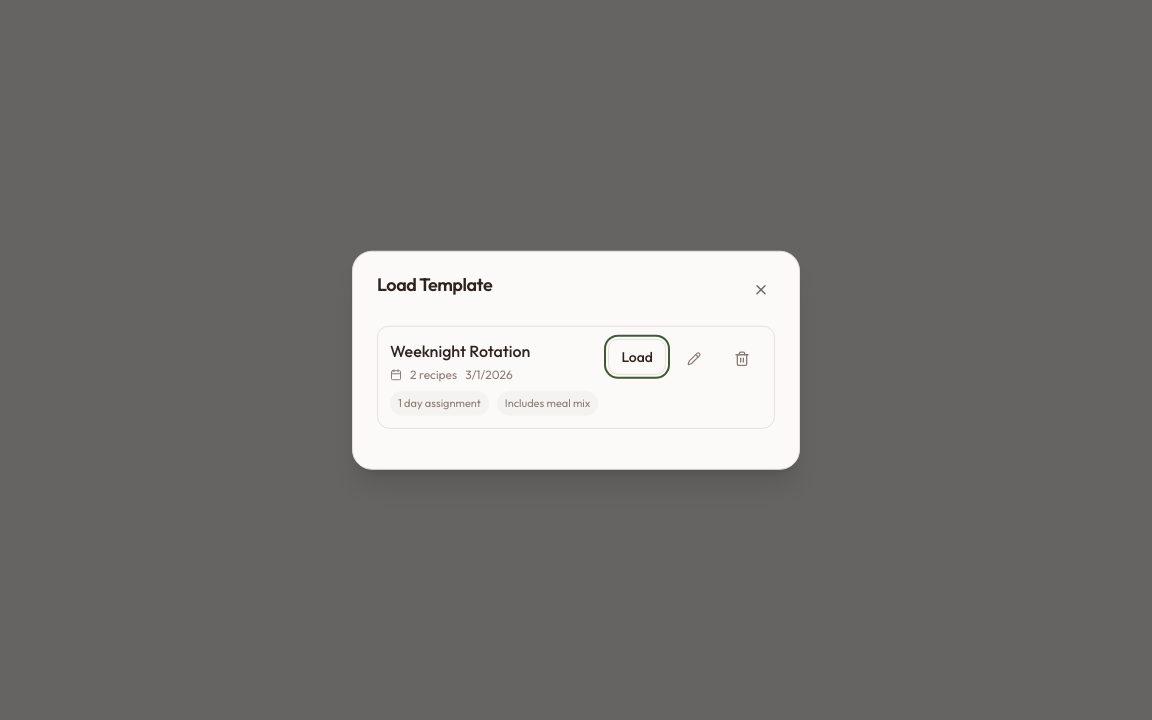
it: LoadTemplateDialog › keeps the dialog actionable when loading a template fails
The image size is (1152, 720).
What coordinates should you click on to do the following:
click the button "Load"
I would click on:
 (637, 357)
Its box is [608,339,666,375].
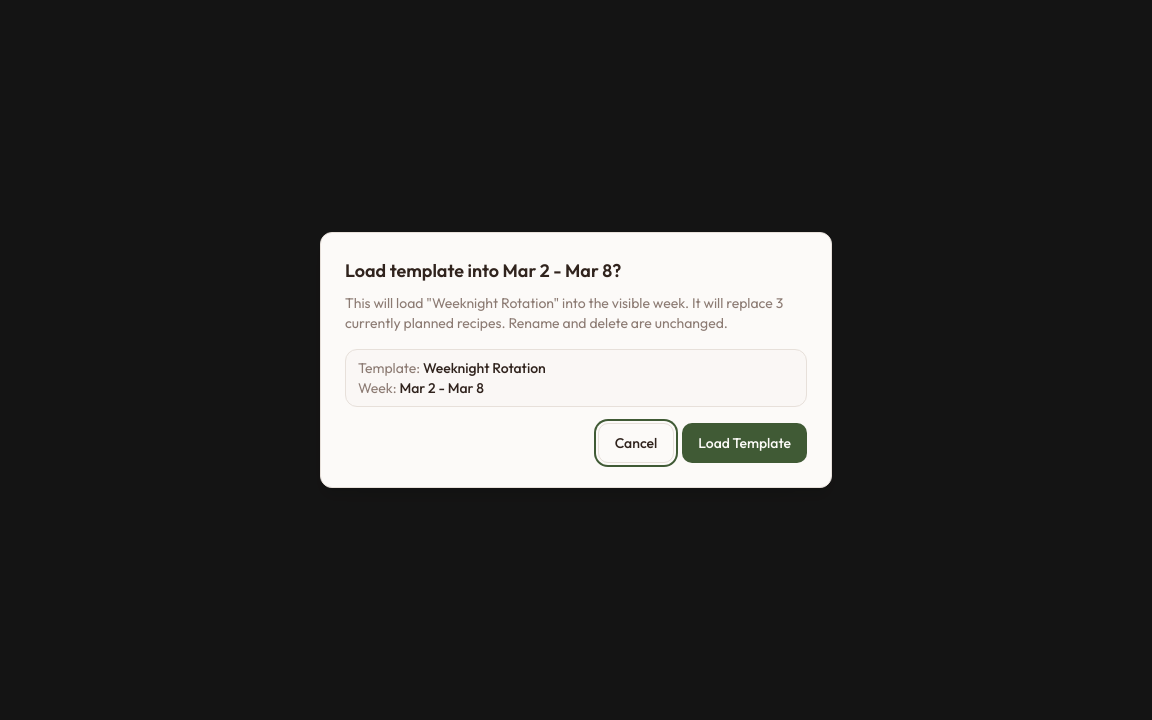
What coordinates should you click on to do the following:
click the button "Load Template"
I would click on:
 (745, 443)
Its box is [682,423,807,463].
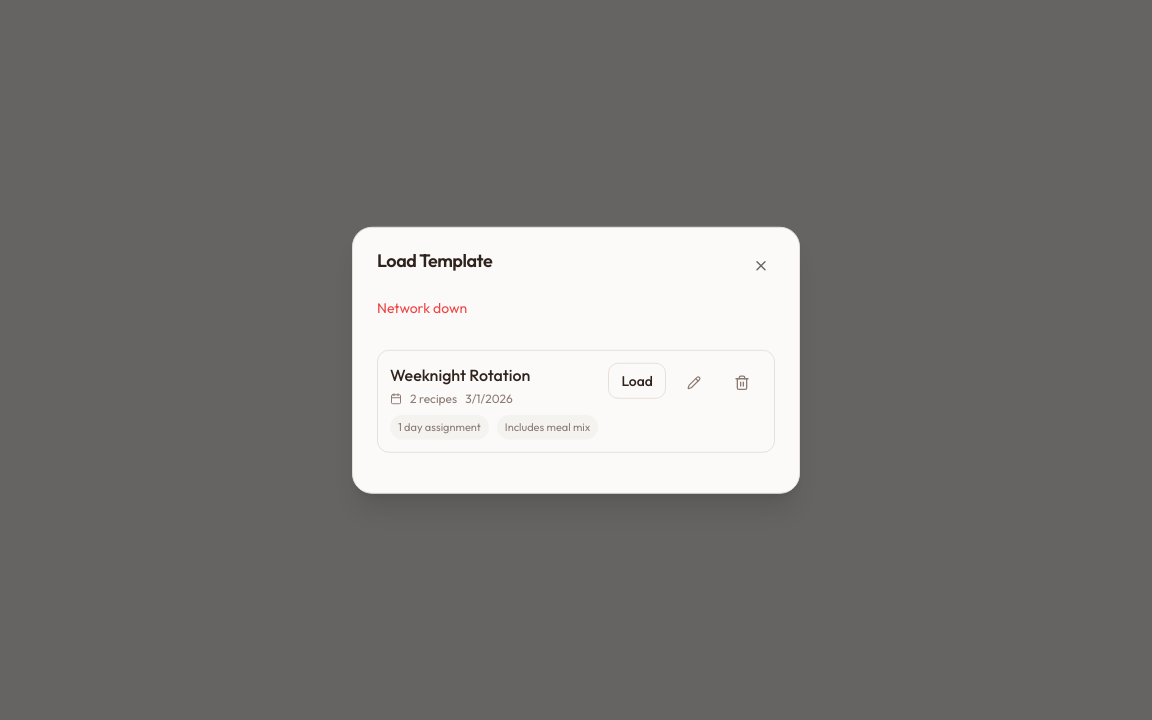
Check: the button "Load" is shown, box [608,363,666,399]
Check: the message reads "Network down", box [377,299,467,317]
